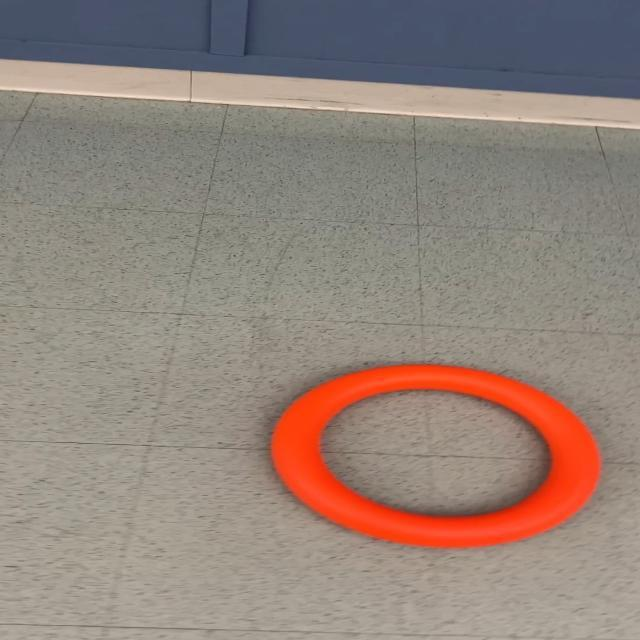note: (267, 363, 604, 550)
